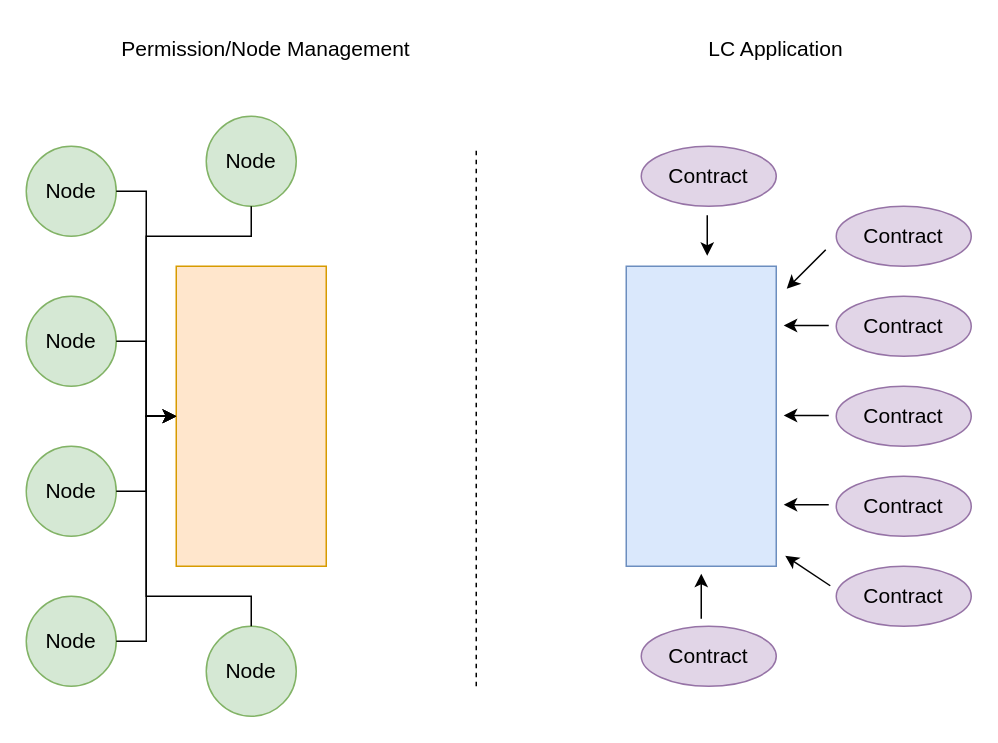
This 998x743 diagram has some shape labels left out. The centre of each missing label's shape, as x and y in pixels:
LC Platform: the point at 700,415
Registration: the point at 250,415
